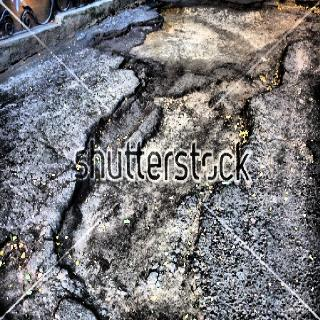pothole: (60, 0, 318, 320)
